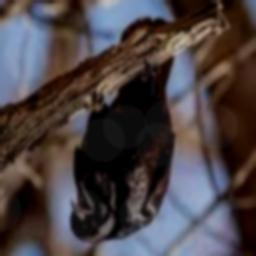Crow: (68, 16, 176, 244)
